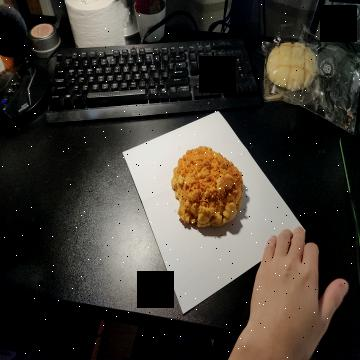soboru_bread: (169, 146, 243, 231)
